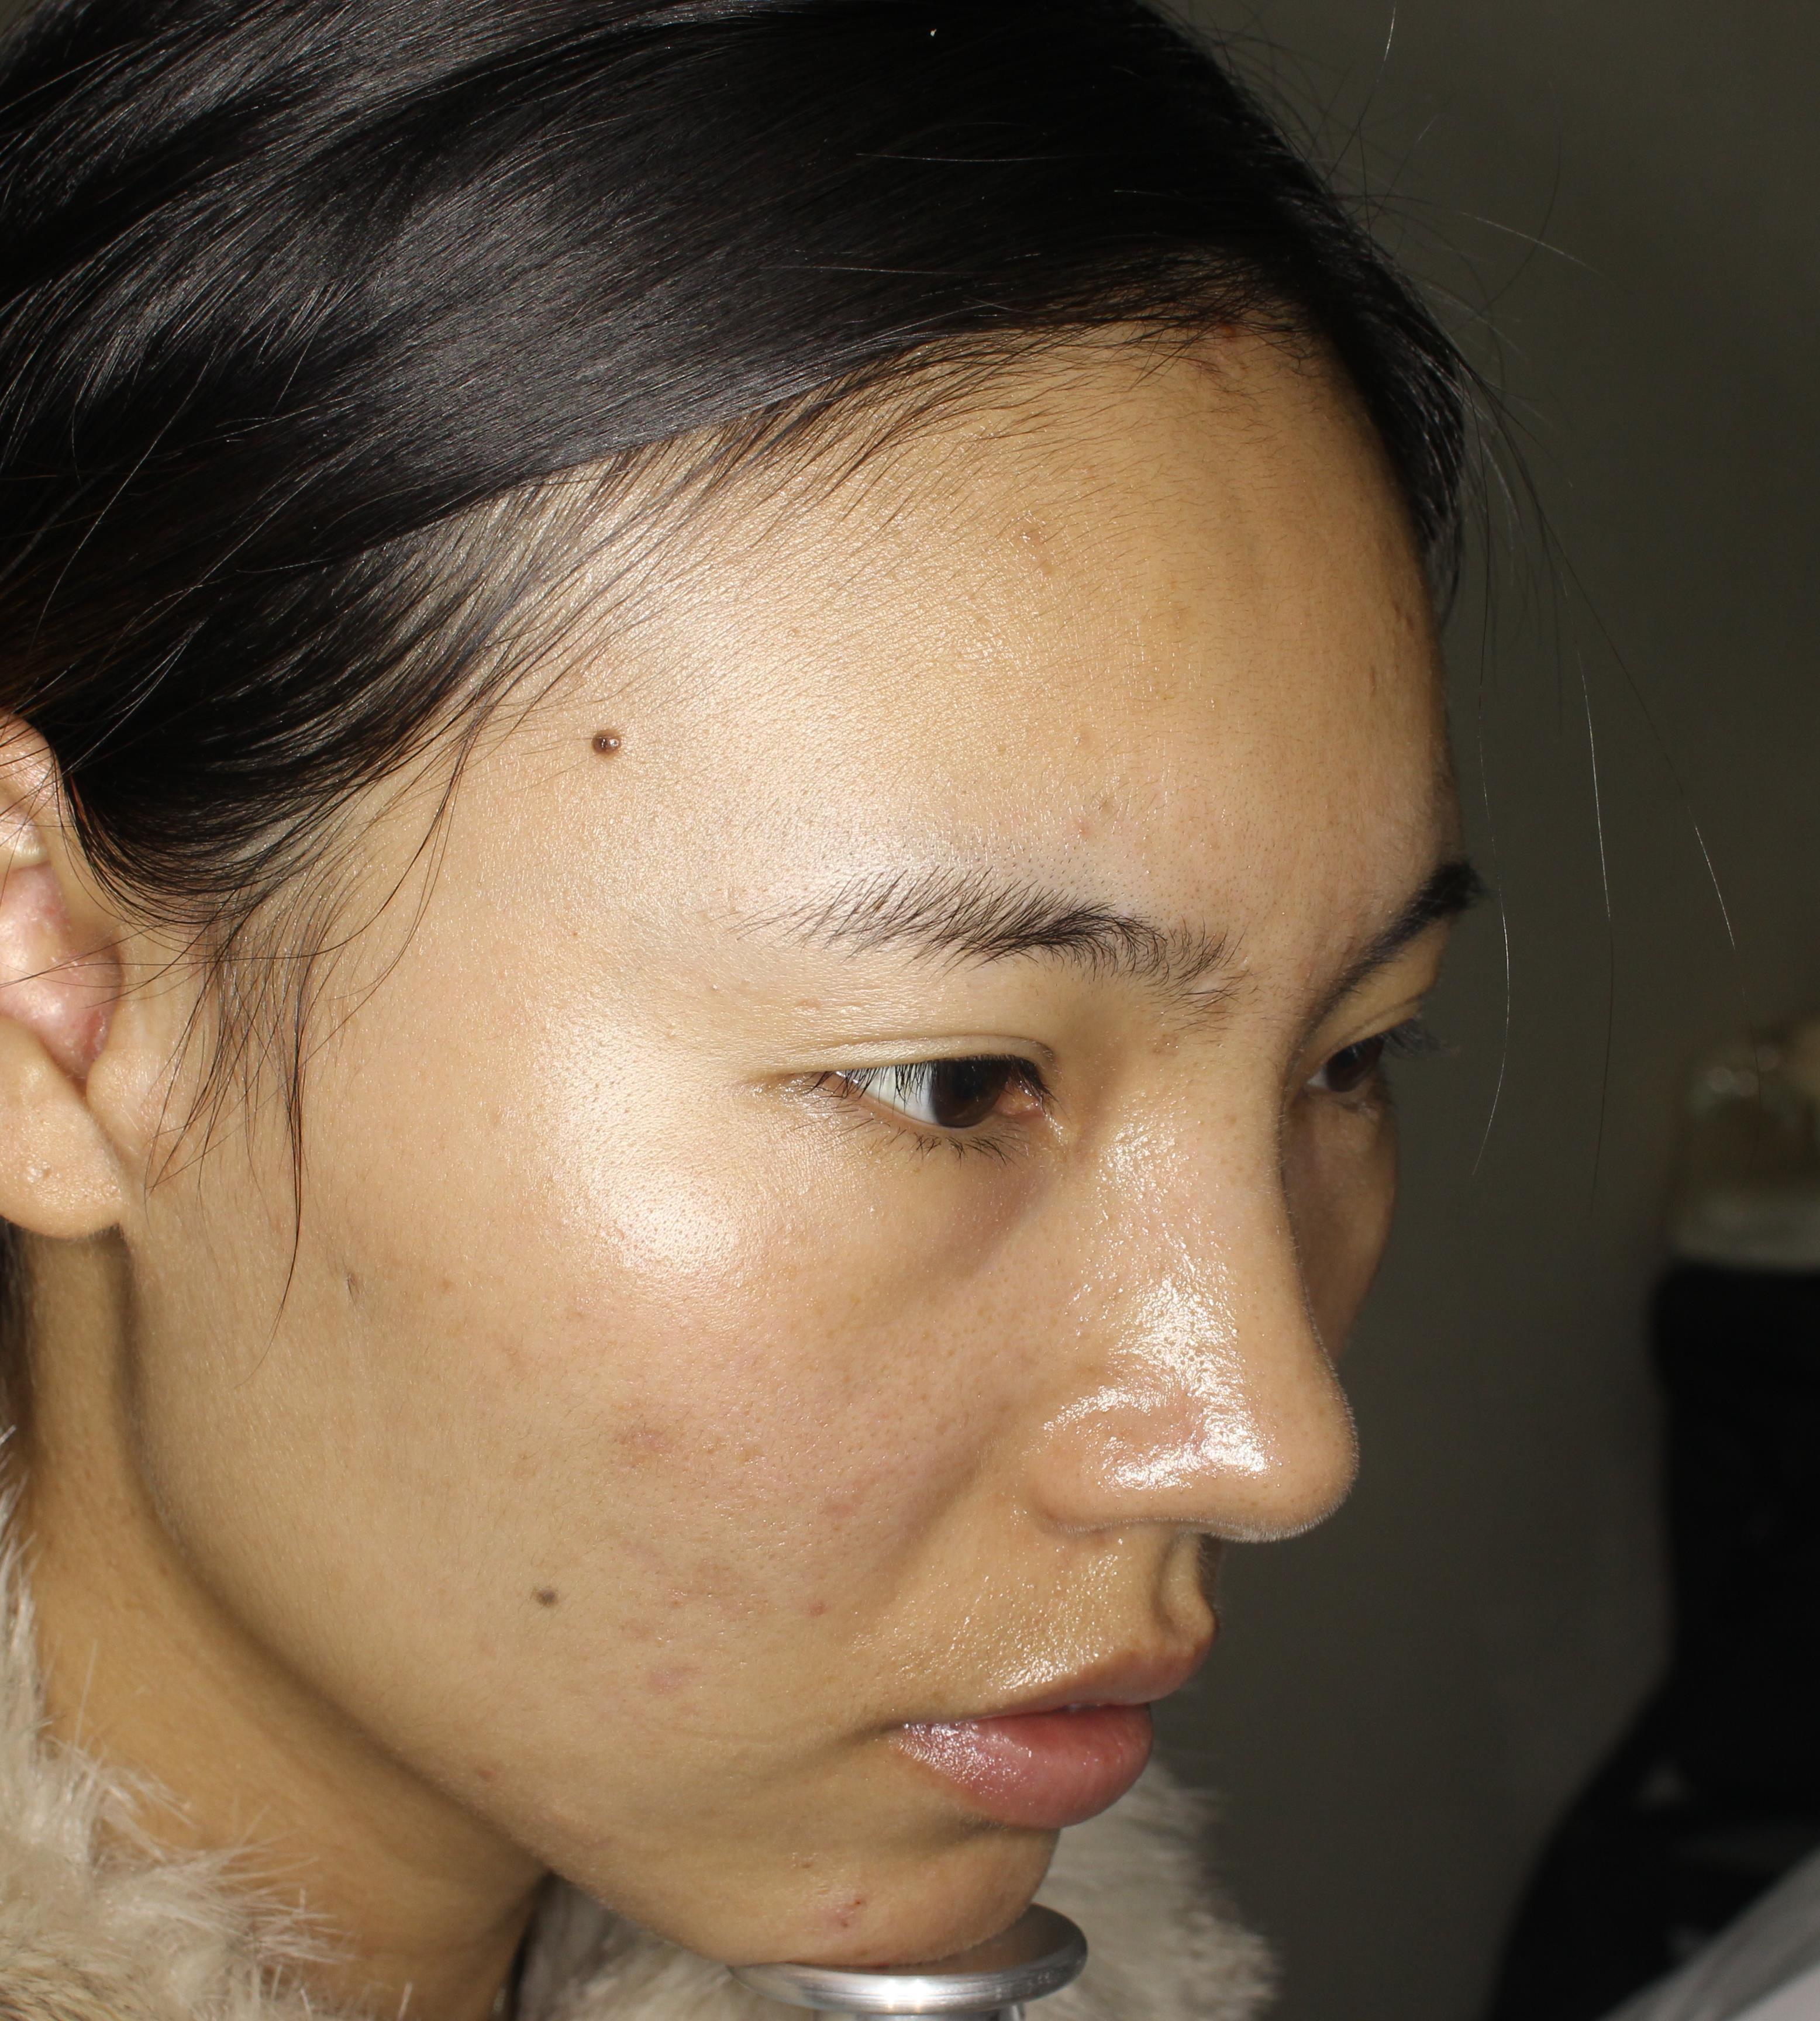fore: (791, 1840, 906, 1953), (589, 1378, 696, 1491), (531, 1754, 615, 1886)
